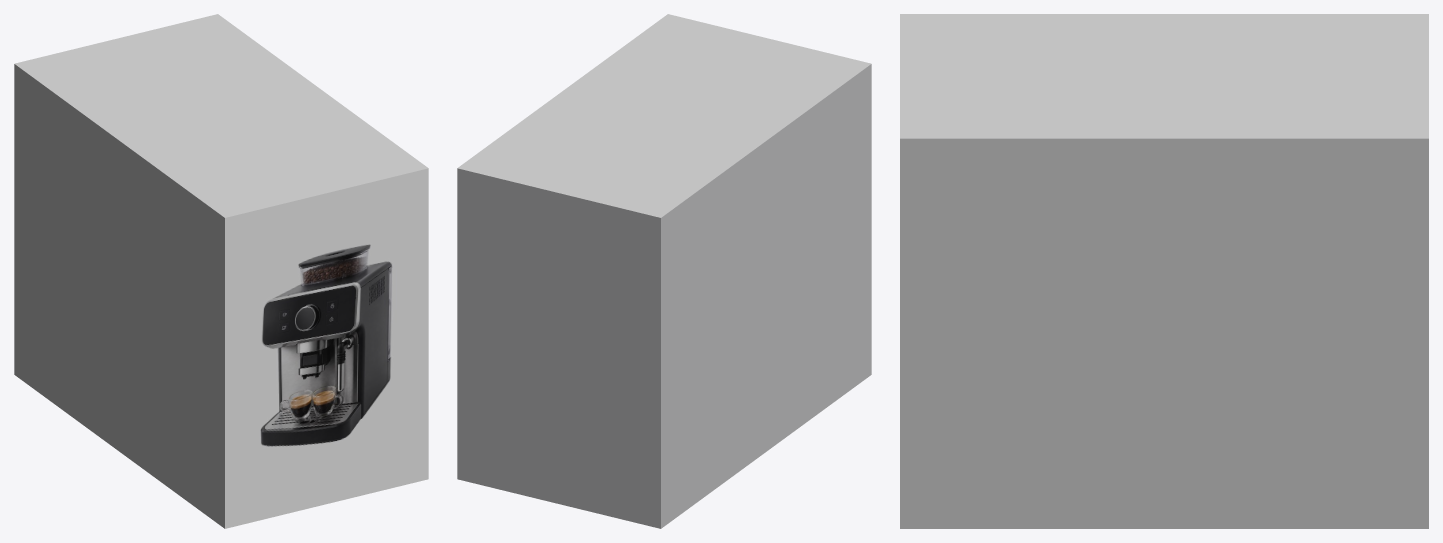
The model's file is p-delonghi-magnifica-evo.glb.
The picture shows the model from 3 angles, left to right: view 1: azimuth 30°, elevation 25°; view 2: azimuth 150°, elevation 25°; view 3: azimuth 270°, elevation 25°; orthographic projection. The views are drawn at different scales.
Visible parts, largest first — view 1: product; view 2: product; view 3: product.
Boxes of the visible parts, <box> form: product: <box>14,14,428,528</box>; product: <box>457,14,871,528</box>; product: <box>900,14,1428,528</box>.
Size of the model in its own units: 0.24 by 0.35 by 0.43.
2 materials, 1 textured.
